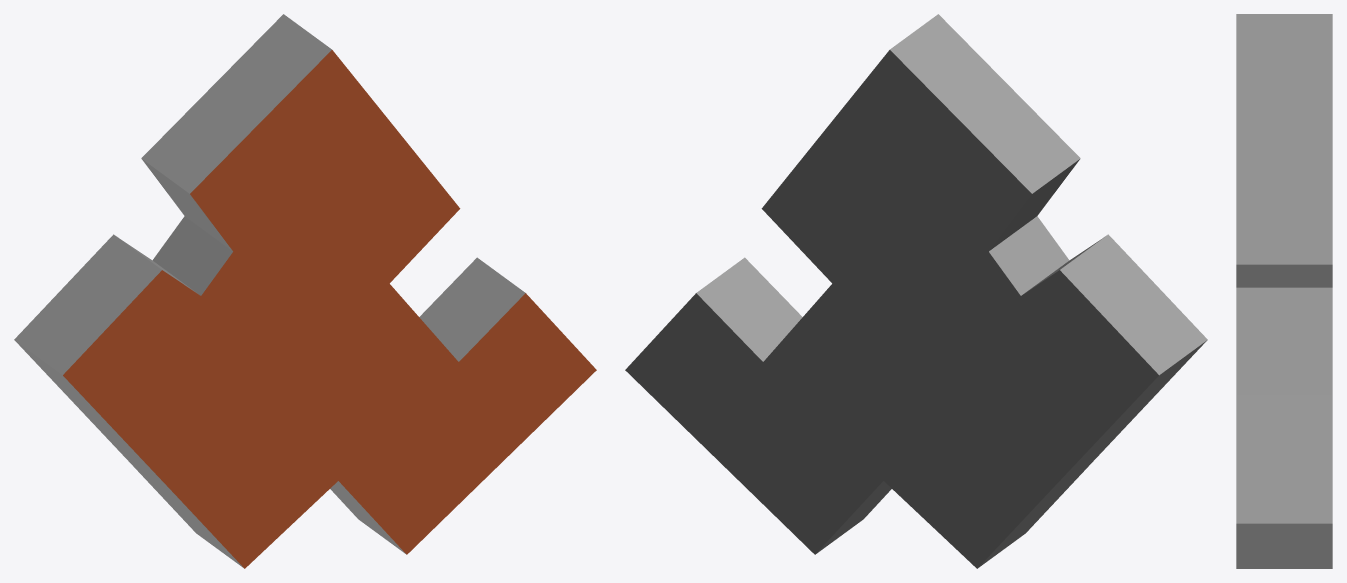
Rendered from construction_4550_assumed_A_Casa_h6m.obj.
3 views of the same model, side by side, from view 1: azimuth 30°, elevation 25°; view 2: azimuth 150°, elevation 25°; view 3: azimuth 270°, elevation 25° (orthographic).
Visible parts, largest first — view 1: construction_4550_assumed_A_Casa; view 2: construction_4550_assumed_A_Casa; view 3: construction_4550_assumed_A_Casa.
Part boxes in pixels (box(x1,y1,x2,y2)): construction_4550_assumed_A_Casa: box(14, 14, 596, 568); construction_4550_assumed_A_Casa: box(625, 14, 1207, 568); construction_4550_assumed_A_Casa: box(1236, 14, 1332, 568).
Bounding box in the file's own units: 38.04 × 35.63 × 6.
